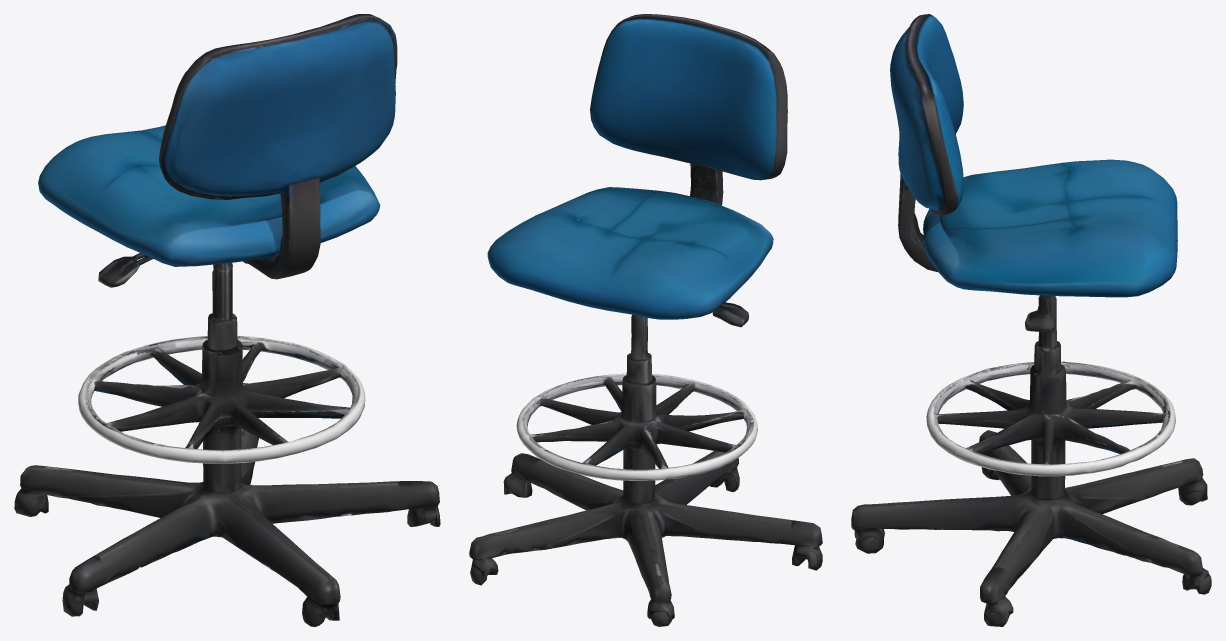
The model's file is 1759549704018-280618239-V_041V-Chair.glb.
3 views of the same model, side by side, from view 1: azimuth 30°, elevation 25°; view 2: azimuth 150°, elevation 25°; view 3: azimuth 270°, elevation 25° (orthographic). The views are drawn at different scales.
Bounding box in the file's own units: 1.37 × 2 × 1.3.
Materials: 1 (1 with a texture image).
